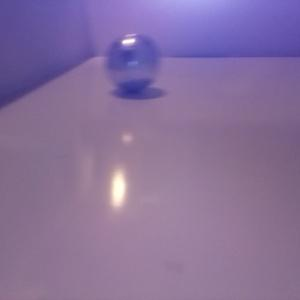alive_ball: (106, 33, 160, 91)
